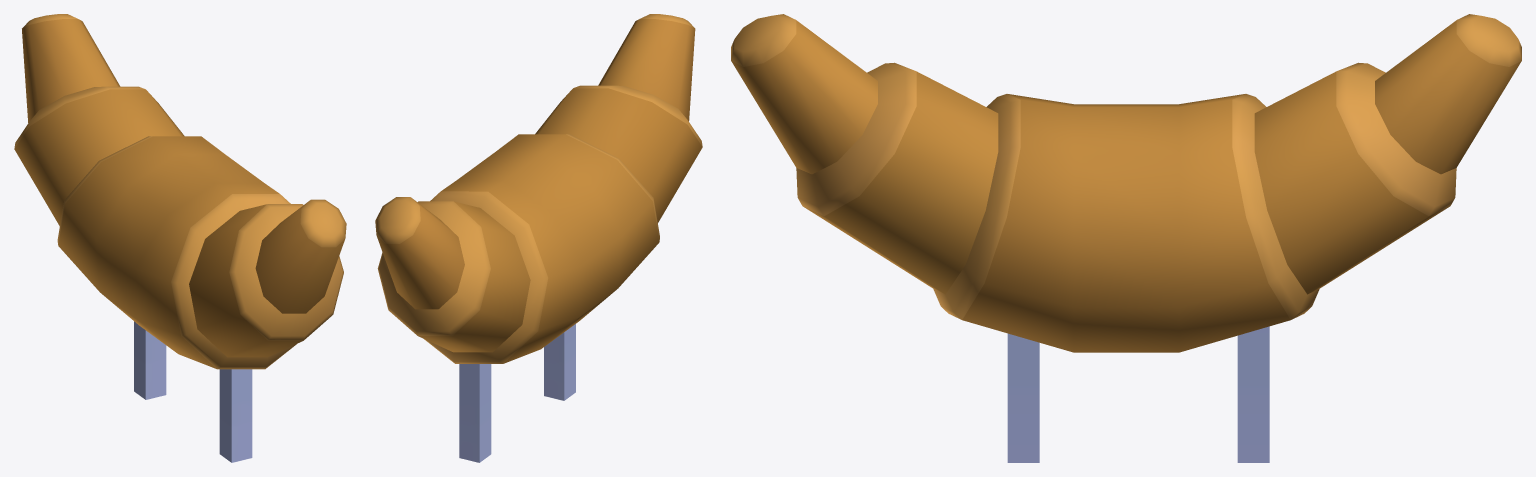
Rendered from BakerySign_1_A.fbx.
The picture shows the model from 3 angles, left to right: view 1: azimuth 30°, elevation 25°; view 2: azimuth 150°, elevation 25°; view 3: azimuth 270°, elevation 25°; orthographic projection. The views are drawn at different scales.
Parts seen in each view (by area): view 1: BakerySign_1_A; view 2: BakerySign_1_A; view 3: BakerySign_1_A.
Boxes of the visible parts, left/top/right/bottom form: BakerySign_1_A: left=14, top=14, right=346, bottom=462; BakerySign_1_A: left=375, top=14, right=702, bottom=462; BakerySign_1_A: left=731, top=14, right=1521, bottom=462.
Size of the model in its own units: 73.64 by 135 by 224.
